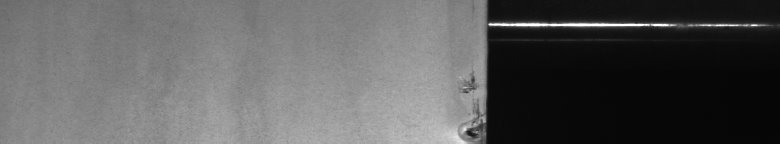hb: (452, 68, 476, 136)
